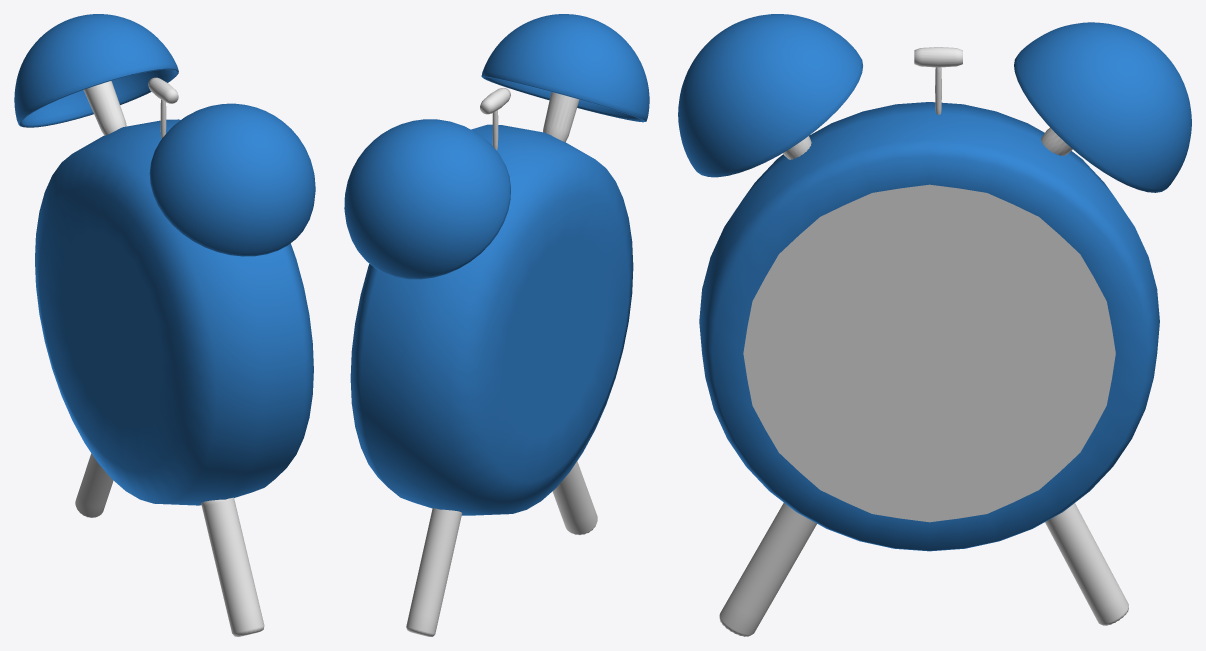
Rendered from 3D Clock.fbx.
3 renders of one model, left to right at view 1: azimuth 30°, elevation 25°; view 2: azimuth 150°, elevation 25°; view 3: azimuth 270°, elevation 25°, orthographic. The views are drawn at different scales.
Visible parts, largest first — view 1: polySurface2; view 2: polySurface2; view 3: polySurface2.
Boxes of the visible parts, box(x1,y1,x2,y2) form: polySurface2: box(14, 14, 315, 636); polySurface2: box(344, 14, 649, 636); polySurface2: box(678, 14, 1191, 636).
Size of the model in its own units: 0.424 by 1.42 by 1.08.
